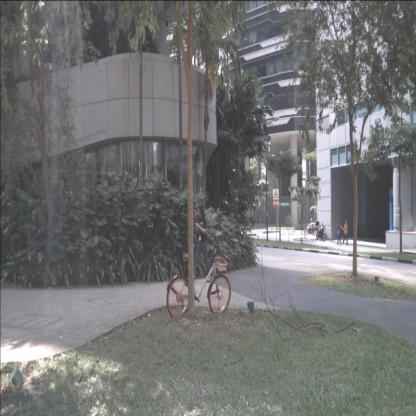human-pedestrian-adult: (191, 206, 212, 283), (336, 219, 344, 246), (342, 220, 349, 246)
vehicle-bicycle: (166, 234, 231, 318), (316, 220, 326, 241)
vehicle-motorcycle: (306, 218, 315, 236)
